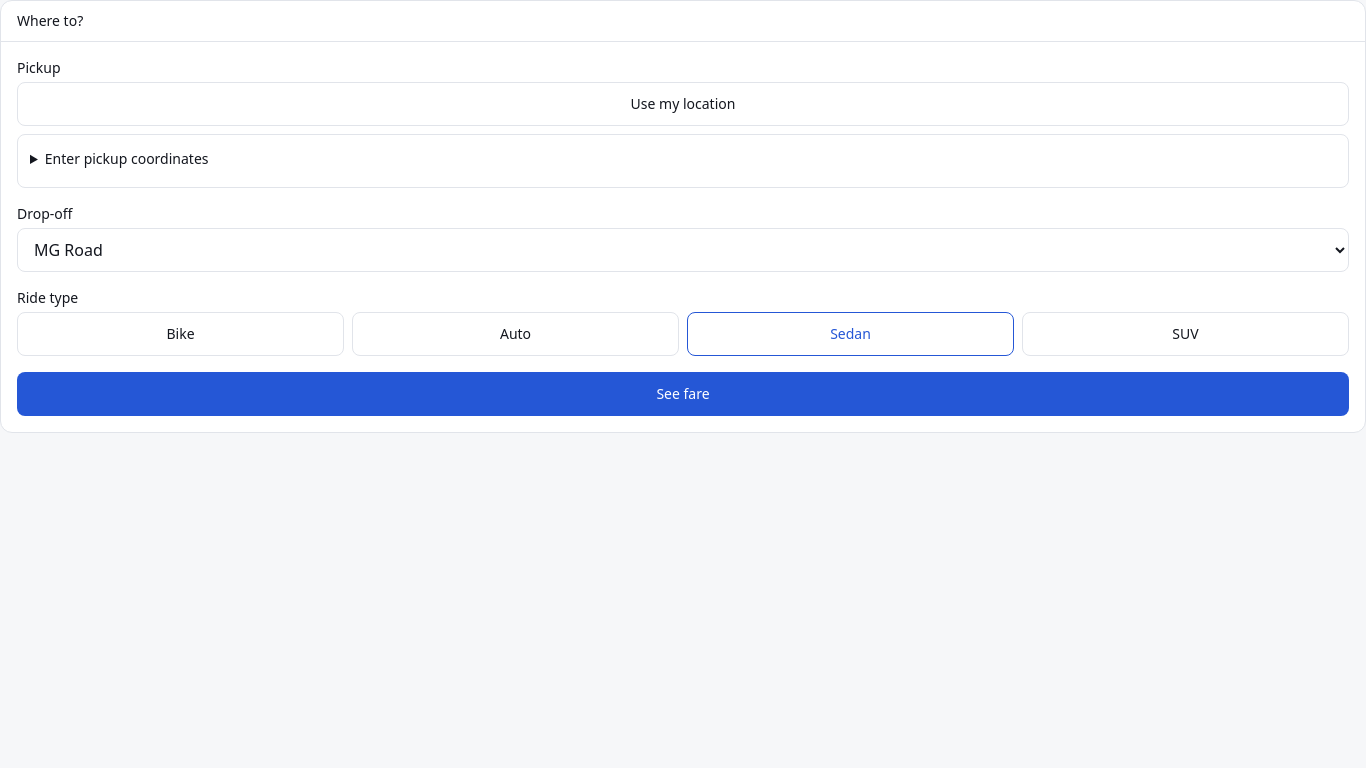
Test case: Book › does not offer a fare that has expired
Click the heading "Enter pickup coordinates".
click(127, 158)  # box left=45, top=149, right=208, bottom=168
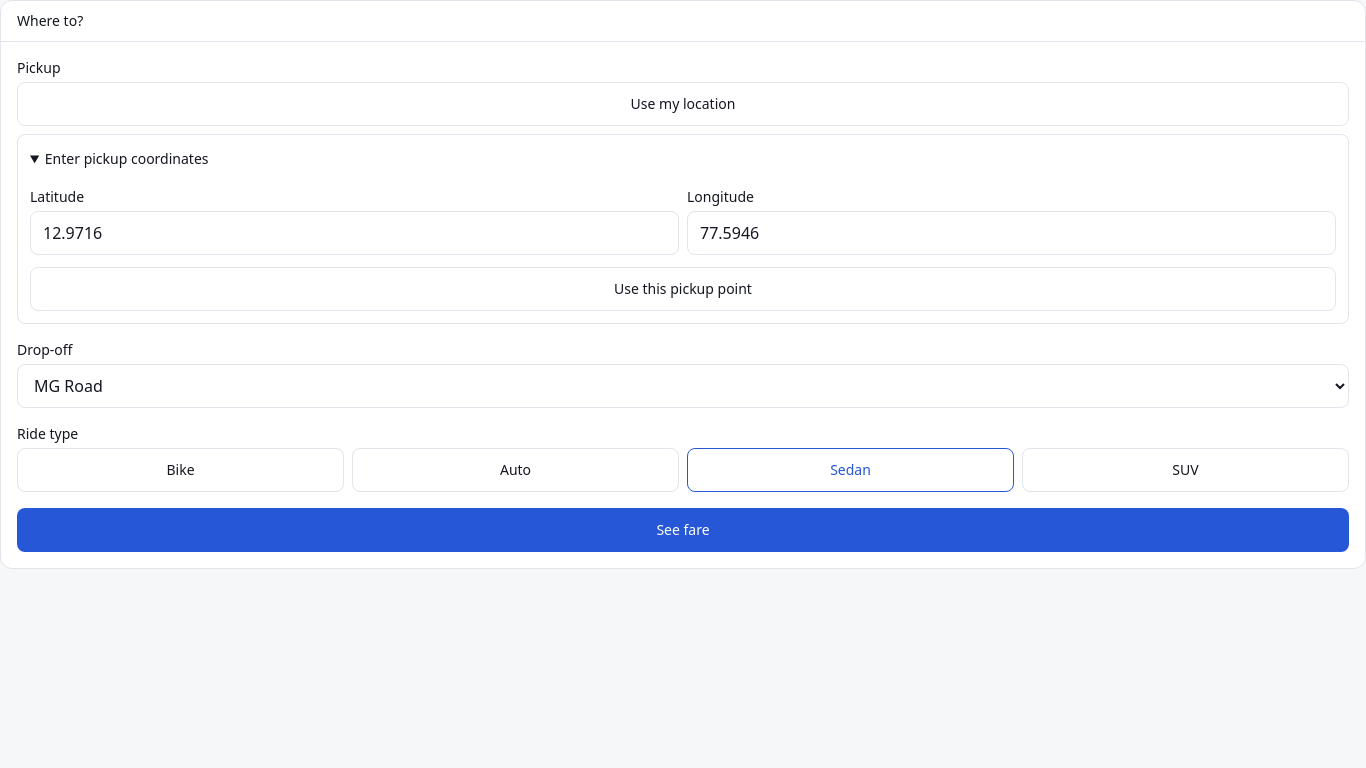
Click the button "Use this pickup point".
click(683, 289)  # box left=30, top=267, right=1336, bottom=311
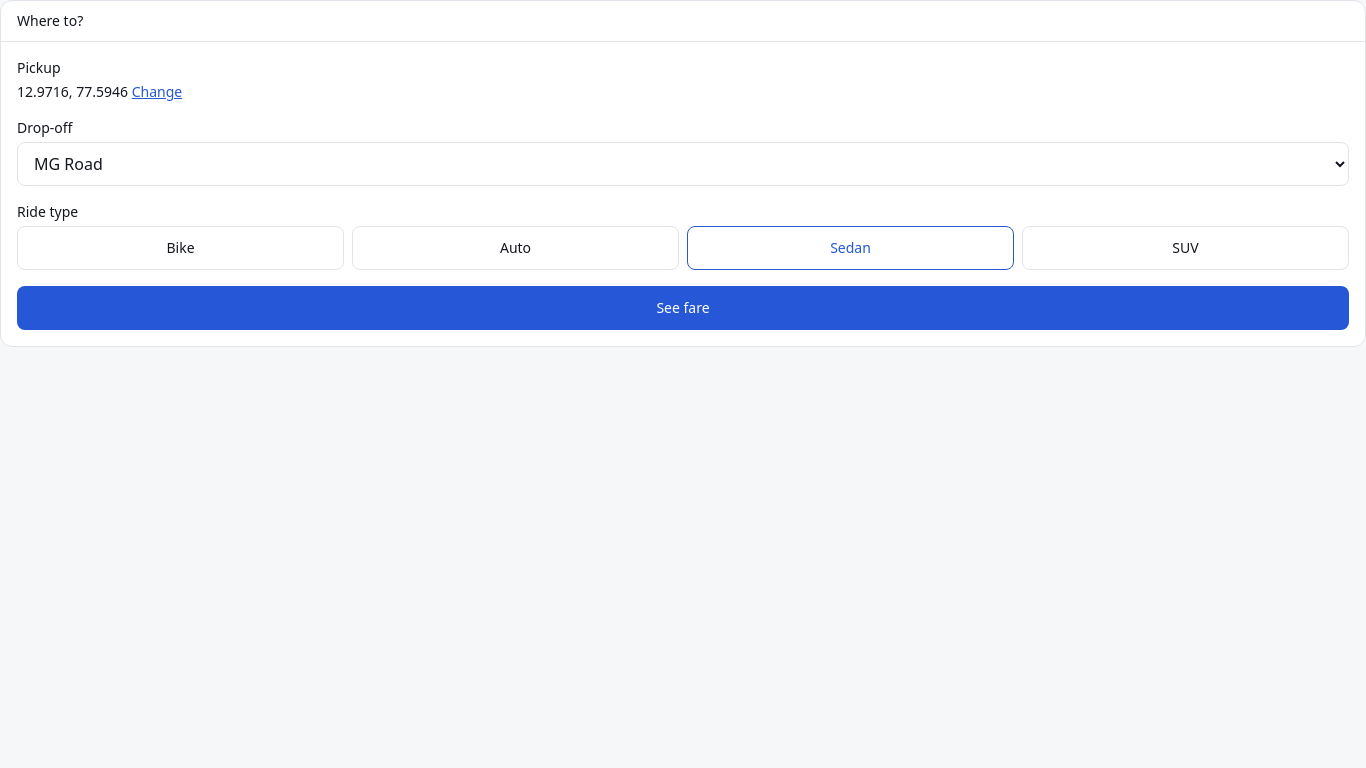
Click the button "See fare".
click(683, 308)  # box left=17, top=286, right=1349, bottom=330
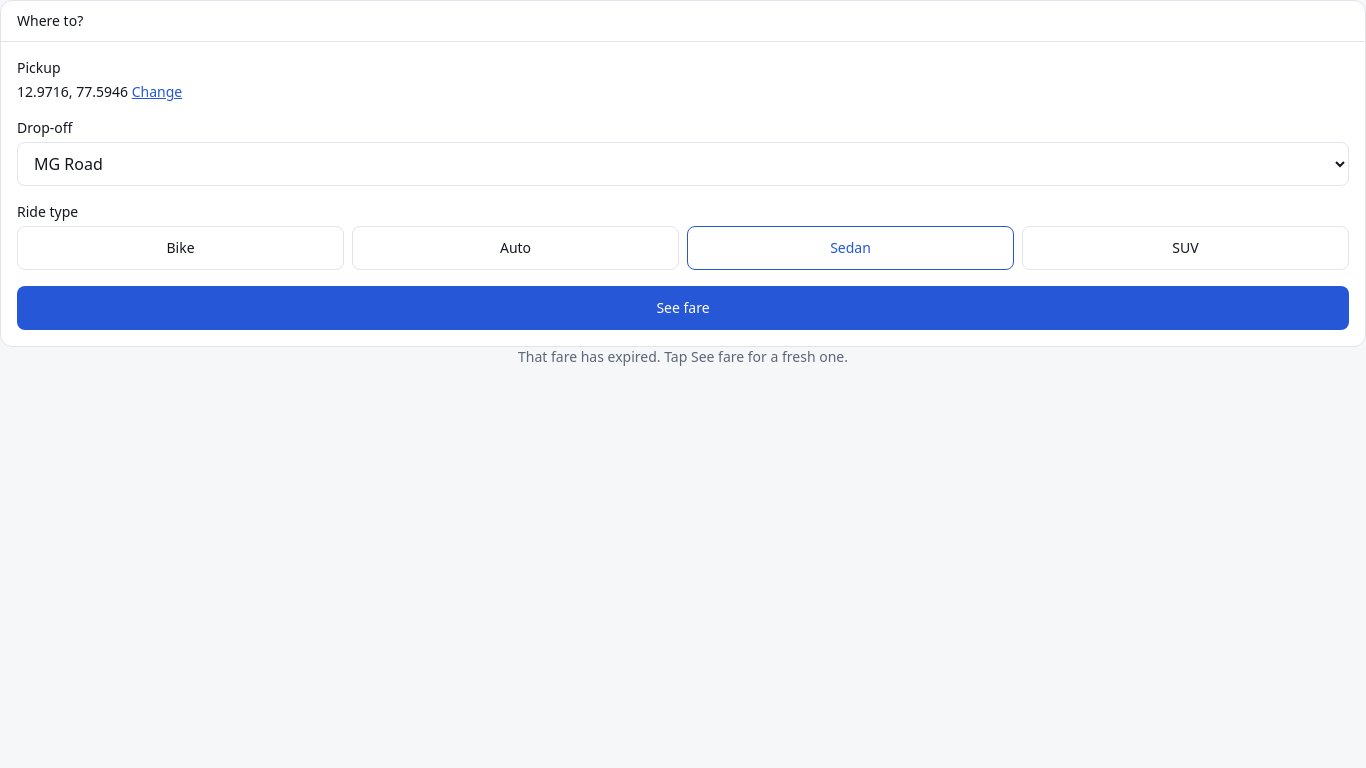
Expected: the text "That fare has expired. Tap See fare for a fresh one." is shown, left=518, top=347, right=848, bottom=366
